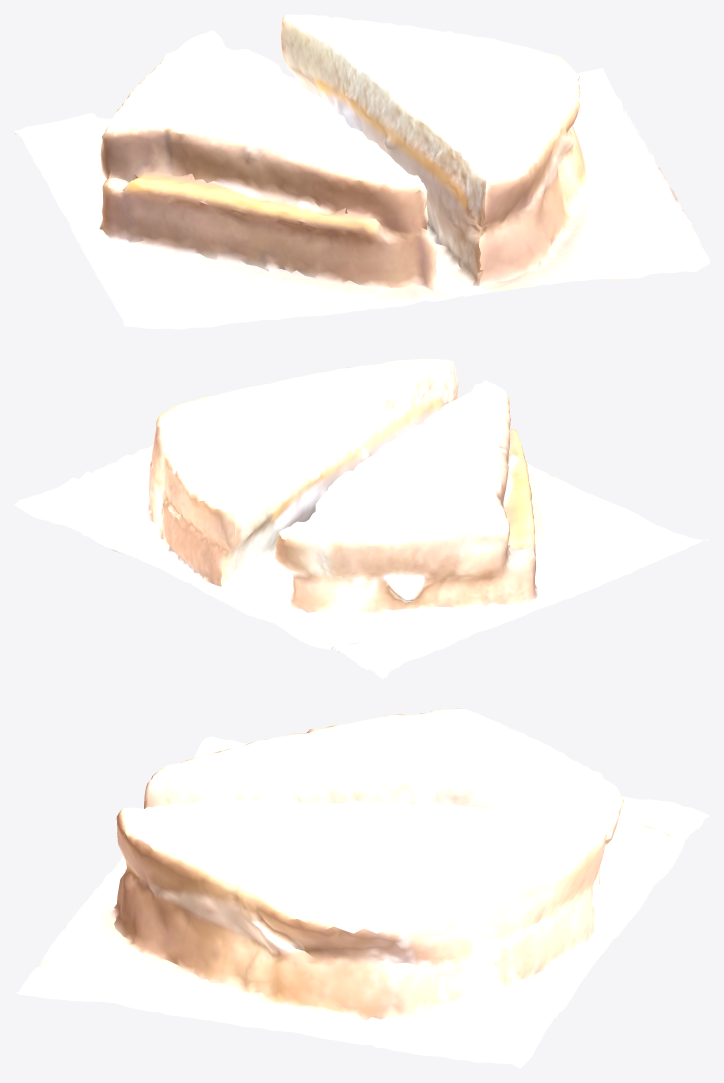
Rendered from turkey_sandwich2.glb.
The picture shows the model from 3 angles, top to bottom: view 1: azimuth 30°, elevation 25°; view 2: azimuth 150°, elevation 25°; view 3: azimuth 270°, elevation 25°; orthographic projection. The views are drawn at different scales.
Parts seen in each view (by area): view 1: Object_4; view 2: Object_4; view 3: Object_4.
Boxes of the visible parts, bbox=[...] form: Object_4: bbox=[14, 14, 709, 329]; Object_4: bbox=[14, 358, 709, 679]; Object_4: bbox=[14, 708, 709, 1068].
Bounding box in the file's own units: 2.49 × 0.4473 × 2.25.
